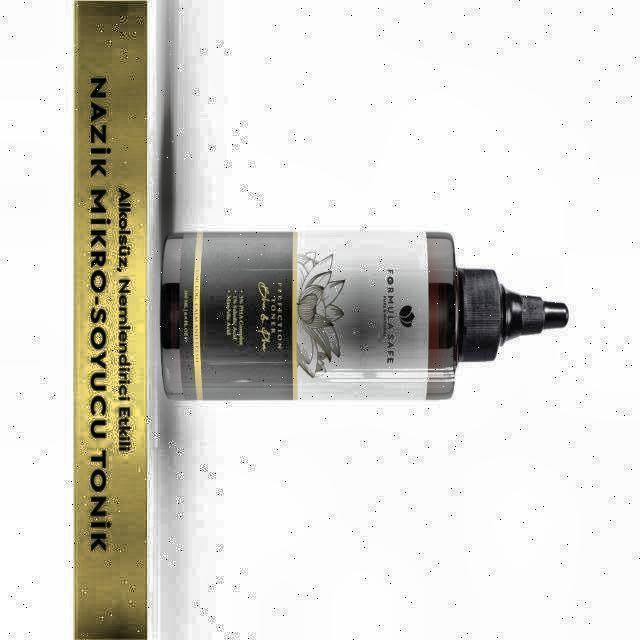plastic: (161, 229, 568, 398)
